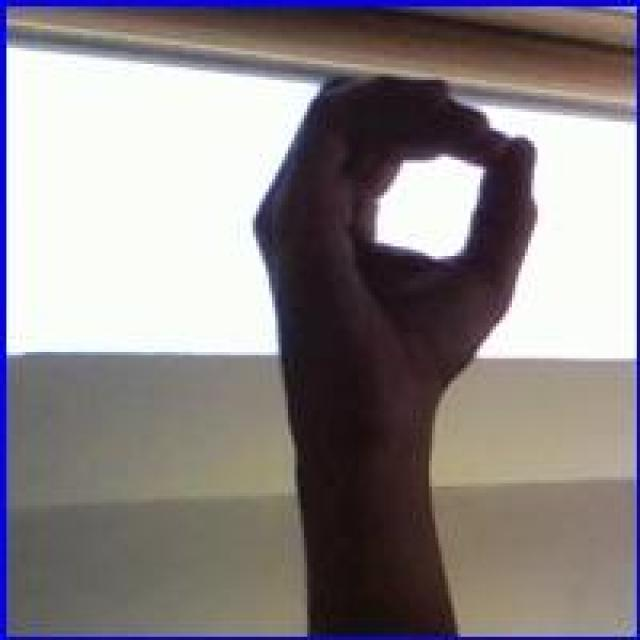O: (247, 67, 538, 426)
